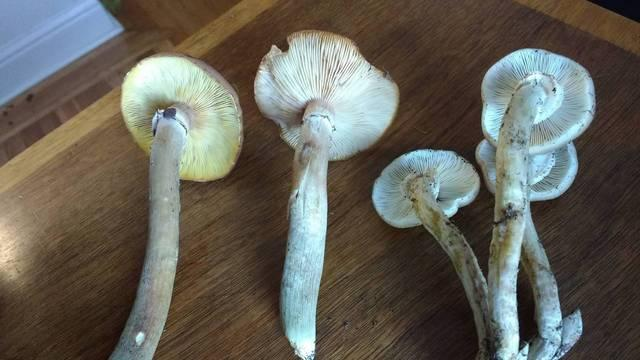Edible Mushroom: (252, 28, 400, 359), (103, 51, 244, 359), (474, 47, 596, 359), (370, 147, 491, 359)
